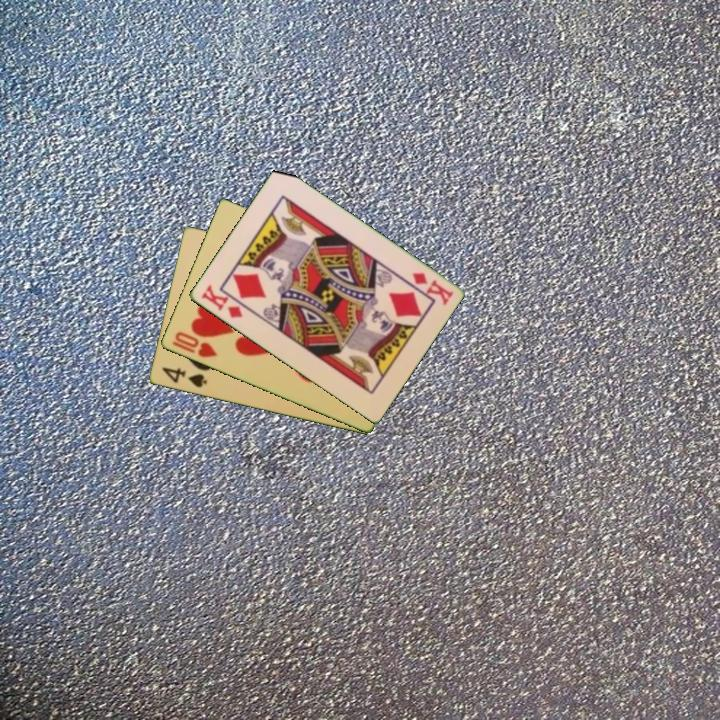10h: (168, 328, 220, 361)
4s: (158, 364, 209, 391)
Kd: (197, 281, 246, 321), (408, 269, 456, 308)
